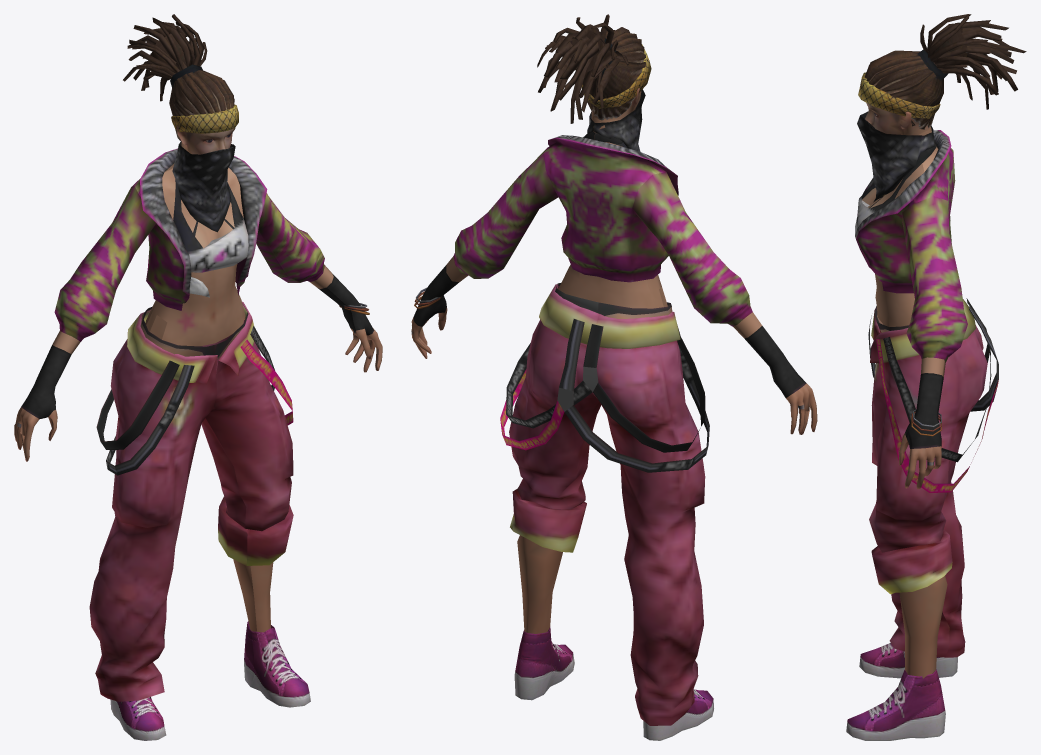
The picture shows the model from 3 angles, left to right: view 1: azimuth 30°, elevation 25°; view 2: azimuth 150°, elevation 25°; view 3: azimuth 270°, elevation 25°; orthographic projection. The views are drawn at different scales.
Parts seen in each view (by area): view 1: HIP; view 2: HIP; view 3: HIP.
Boxes of the visible parts, x1,y1,x2,y2 form: HIP: [14, 14, 382, 740]; HIP: [411, 14, 817, 740]; HIP: [846, 14, 1026, 740].
Size of the model in its own units: 1.13 by 1.98 by 0.4706.
1 material, 1 textured.
